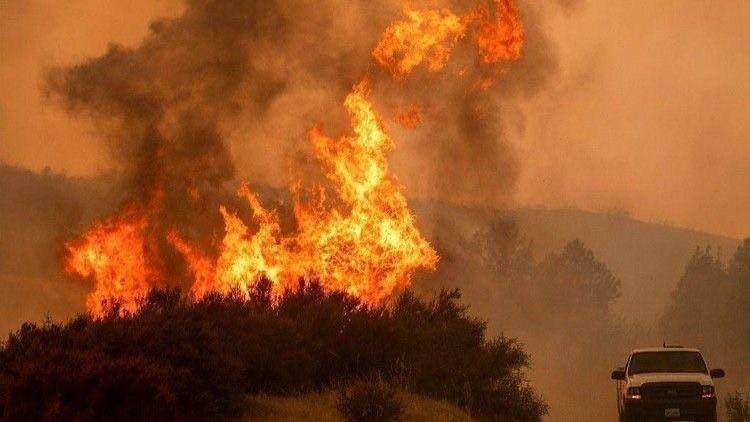fire: (58, 60, 426, 381), (366, 8, 526, 100)
smoke: (41, 22, 283, 178)
